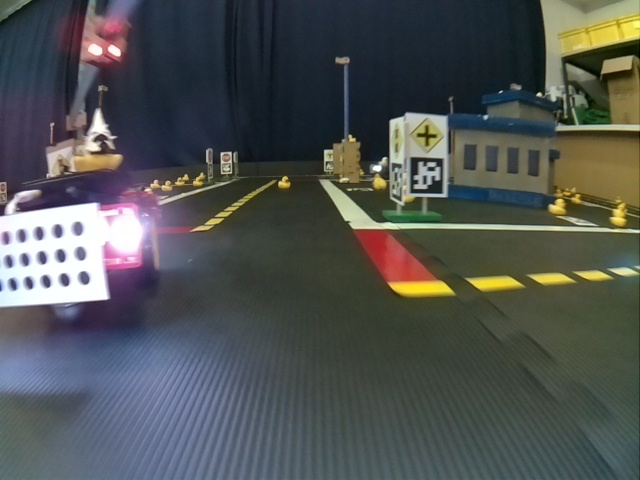Duckie: (73, 110, 124, 168), (548, 199, 566, 212), (612, 210, 626, 226), (375, 176, 385, 189), (278, 176, 288, 187), (162, 182, 172, 191), (571, 194, 580, 204), (151, 180, 160, 189), (193, 178, 203, 185)
Duckiebot: (2, 177, 157, 315)
Intersection sign: (410, 116, 443, 152)
QR code: (408, 157, 445, 195), (390, 164, 403, 201)
Signal sign: (390, 124, 403, 159)
Traffic light: (83, 16, 126, 67)
